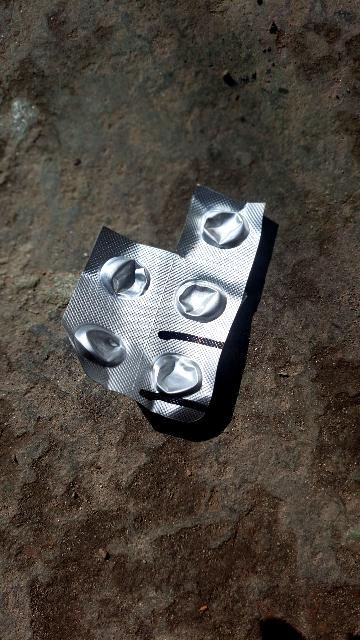medicine: (59, 184, 265, 424)
